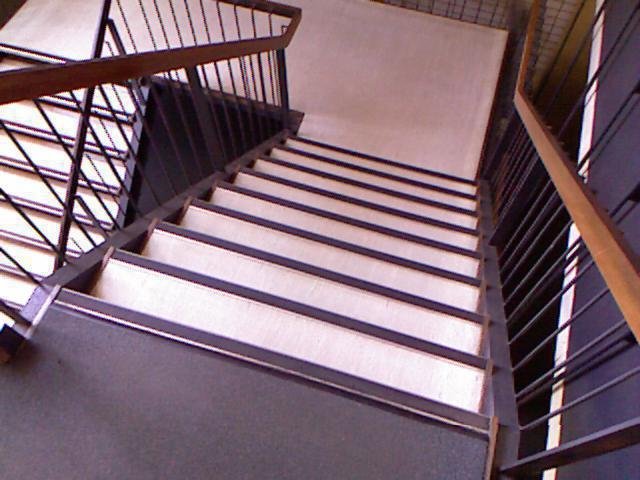Escaleras: (100, 135, 509, 435), (0, 65, 162, 409)
